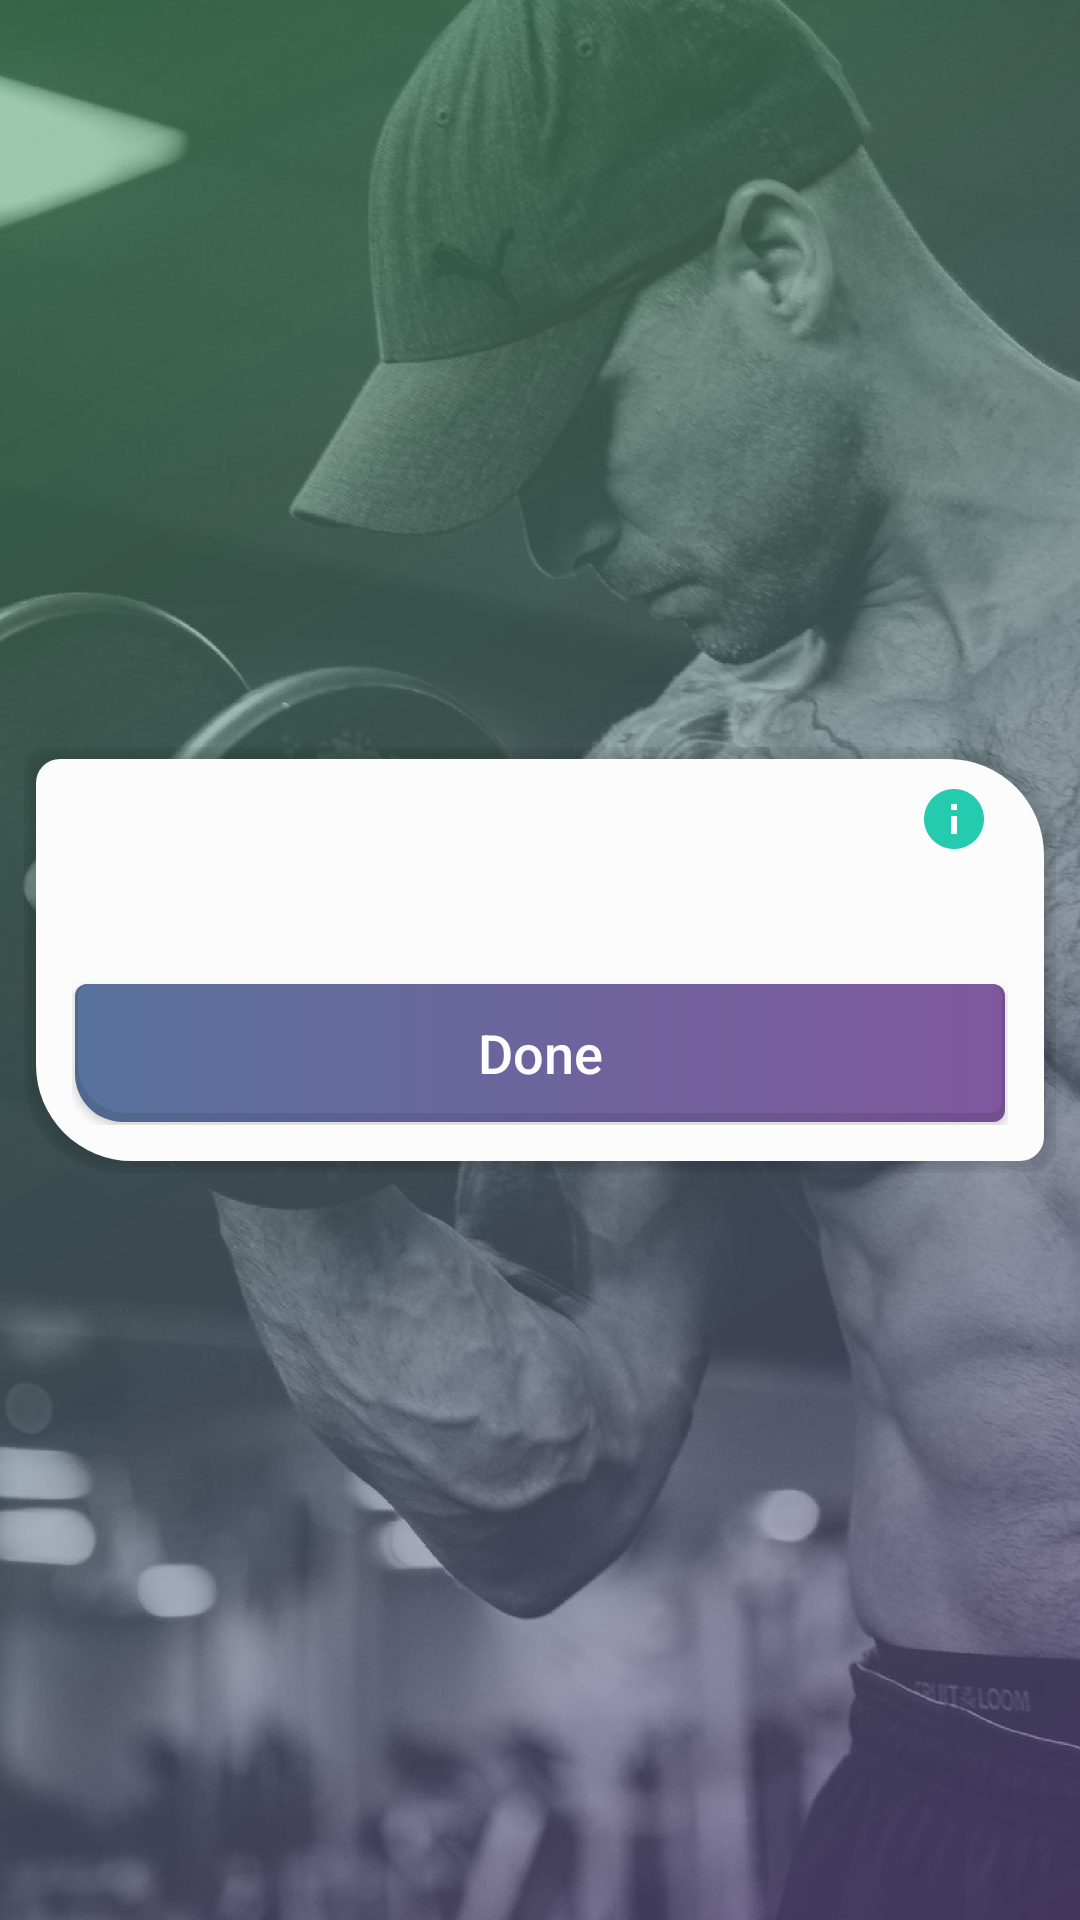

Named icons in this screenshot (1080 × 1920) and their centers, (x=x, y=y):
details: (x=954, y=819)
